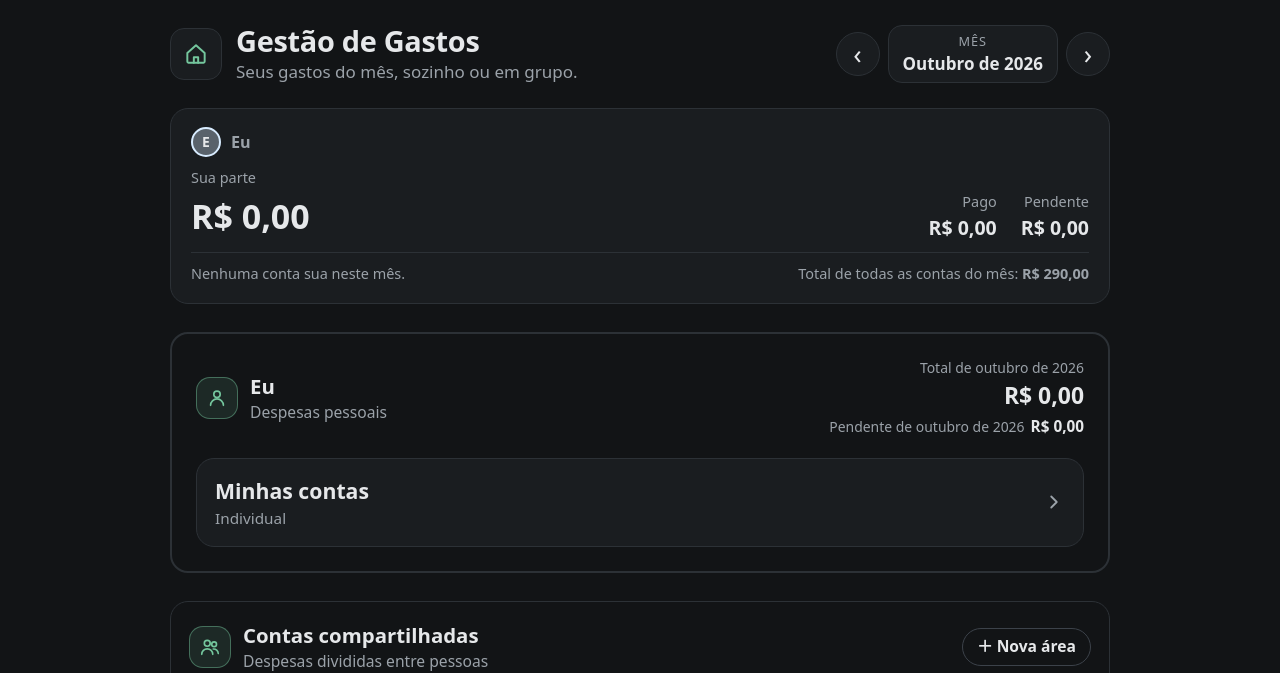
it: painel pessoal: sua parte em todas as áreas do mês › mês sem nenhuma conta e mês só com contas de outros
What coordinates should you click on to do the following:
click the button named "Próximo mês"
I would click on:
 (1088, 54)
Its box is [1066,32,1110,76].
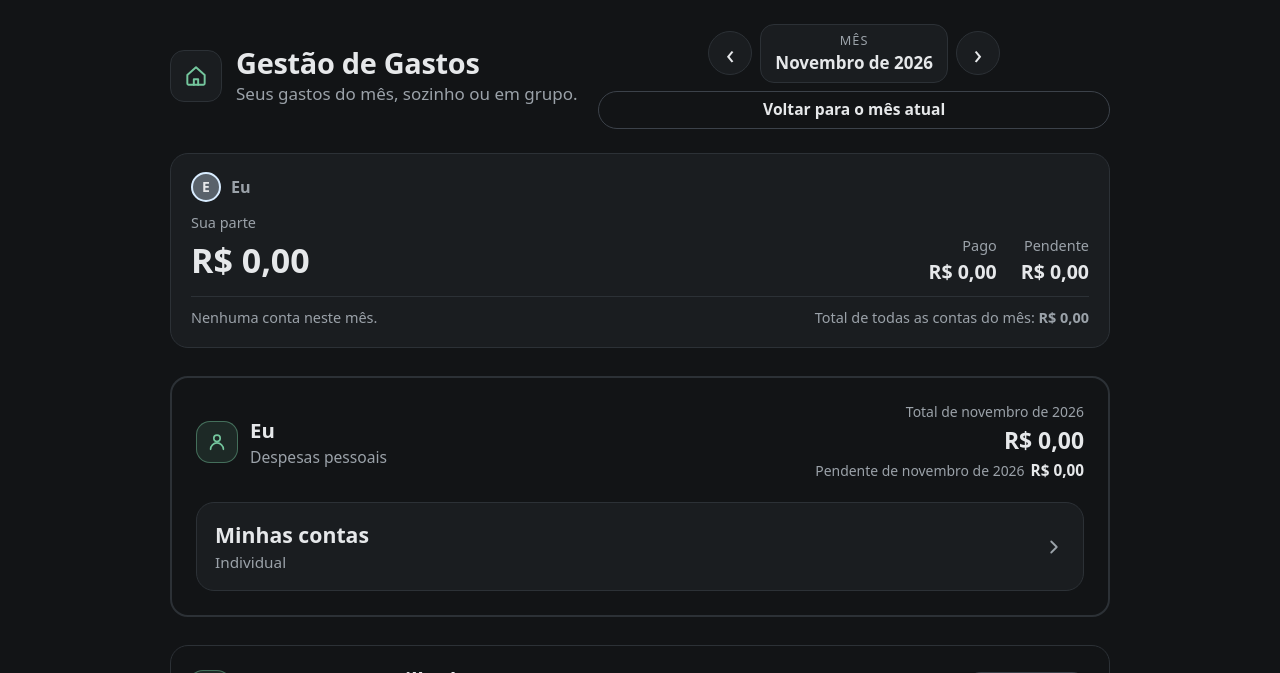
Now the element that starts with "Sua parte" shows "Nenhuma conta neste mês.", box [191,308,377,327]
